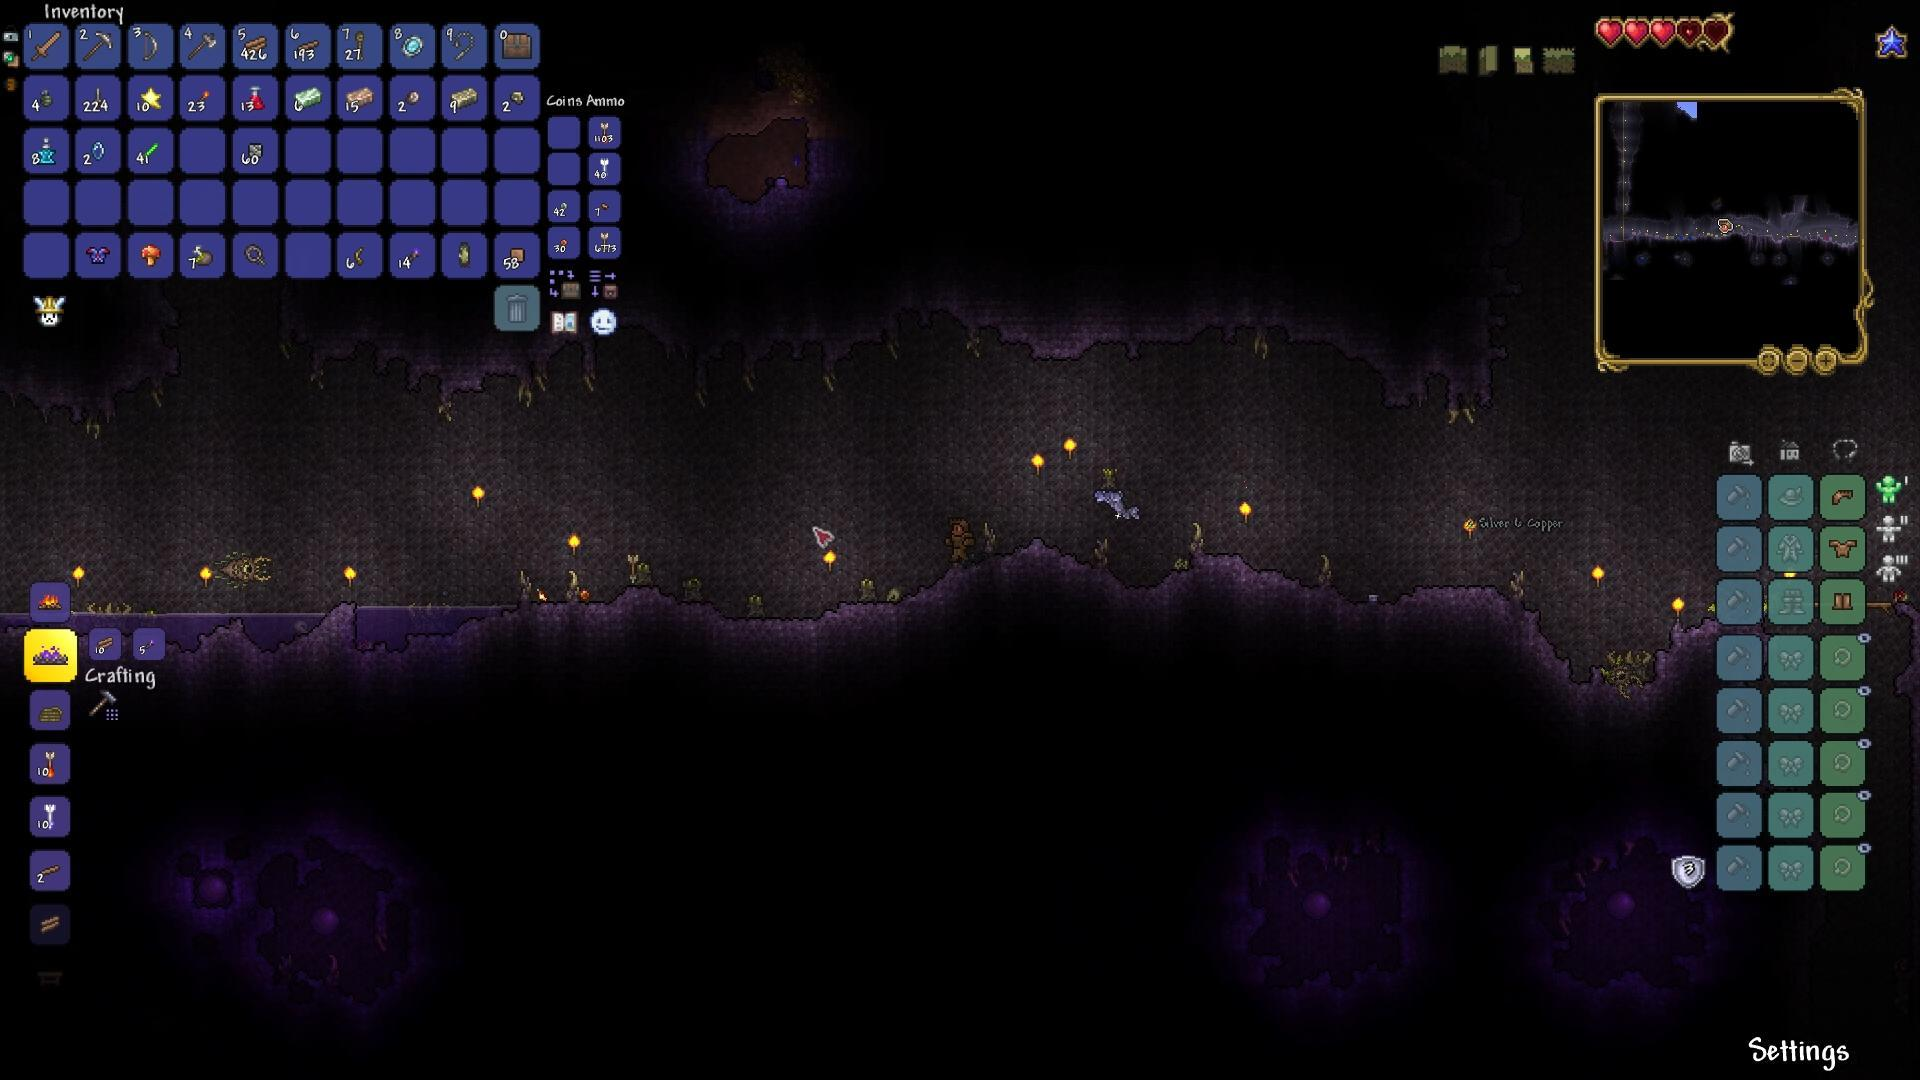crimera: (206, 541, 276, 585)
glowstick: (137, 141, 161, 164)
knife: (87, 80, 105, 112)
potion: (37, 135, 58, 165), (245, 80, 265, 112)
star: (136, 80, 166, 113)
